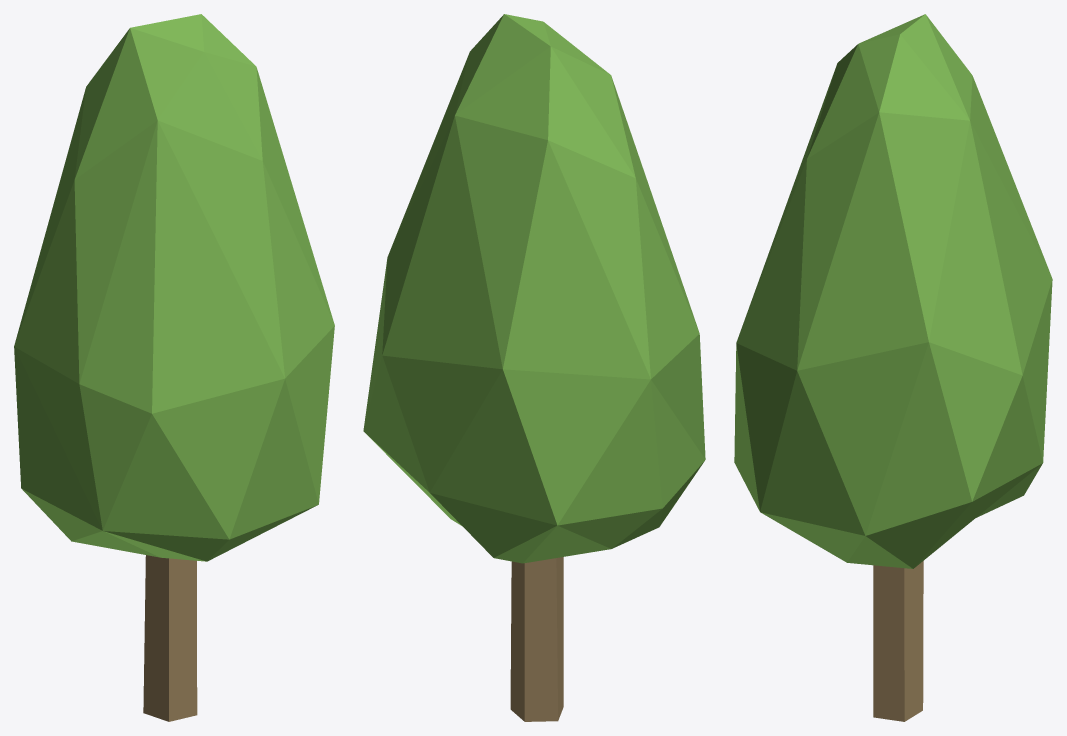
The model's file is Thuja_Tree_s_01.fbx.
3 renders of one model, left to right at view 1: azimuth 30°, elevation 25°; view 2: azimuth 150°, elevation 25°; view 3: azimuth 270°, elevation 25°, orthographic.
Parts seen in each view (by area): view 1: Thuja_Tree_s_01; view 2: Thuja_Tree_s_01; view 3: Thuja_Tree_s_01.
Part boxes in pixels (x1=…): Thuja_Tree_s_01: x1=14, y1=14, x2=334, y2=721; Thuja_Tree_s_01: x1=363, y1=14, x2=705, y2=721; Thuja_Tree_s_01: x1=734, y1=14, x2=1052, y2=721.
Bounding box in the file's own units: 96.9 × 233 × 97.04.
